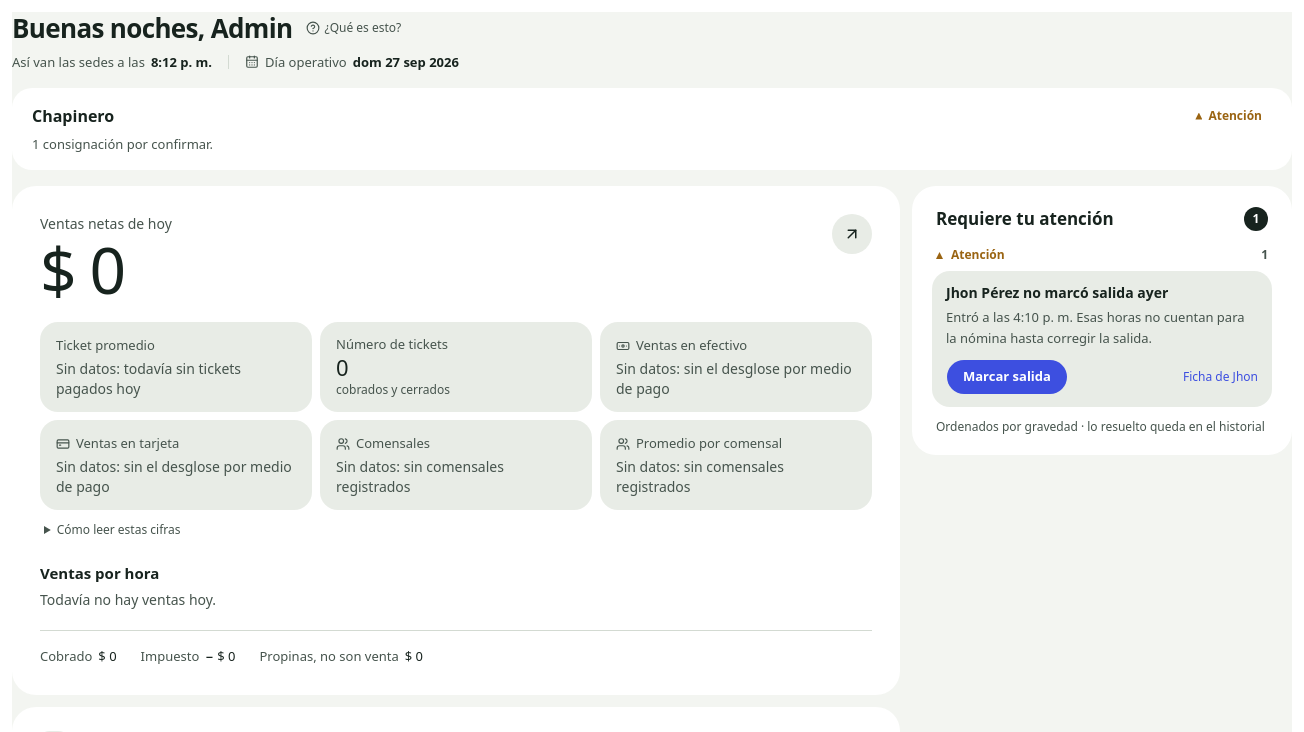
Test: Requiere tu atención — acciones en el lugar › una salida olvidada se marca con la hora y el motivo, y dice que no se reversa desde acá
The image size is (1304, 732).
Expected: the text "Entró a las 4:10 p. m." is shown, [946,308,1245,347]
Click the button "Marcar salida": (1007, 377) [946,359,1068,395]
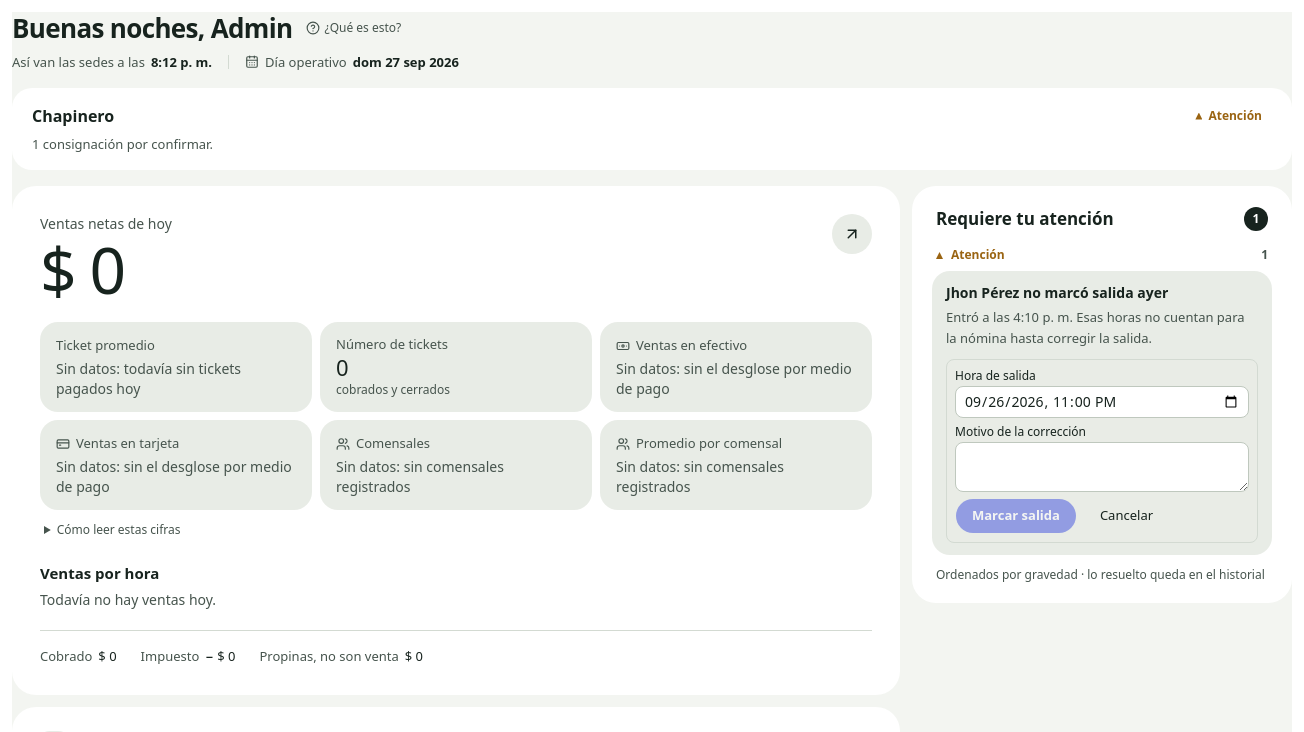
Result: the field labelled "Hora de salida" holds "2026-09-26T23:00" at [955,386,1249,418]
In the text box labelled "Motivo de la corrección": (1102, 467) [955,442,1249,492], type "Cerró la tablet a las 11"
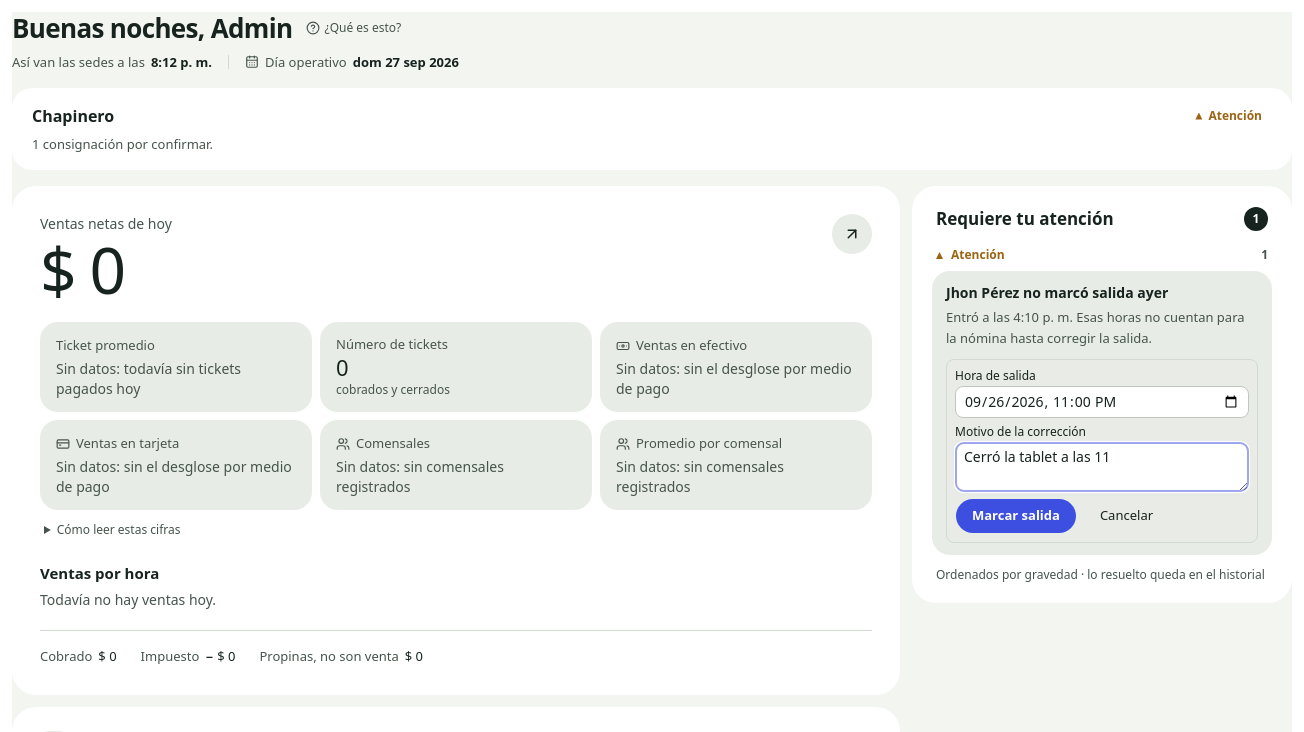
Click the button "Marcar salida": (1016, 516) [955,498,1077,534]
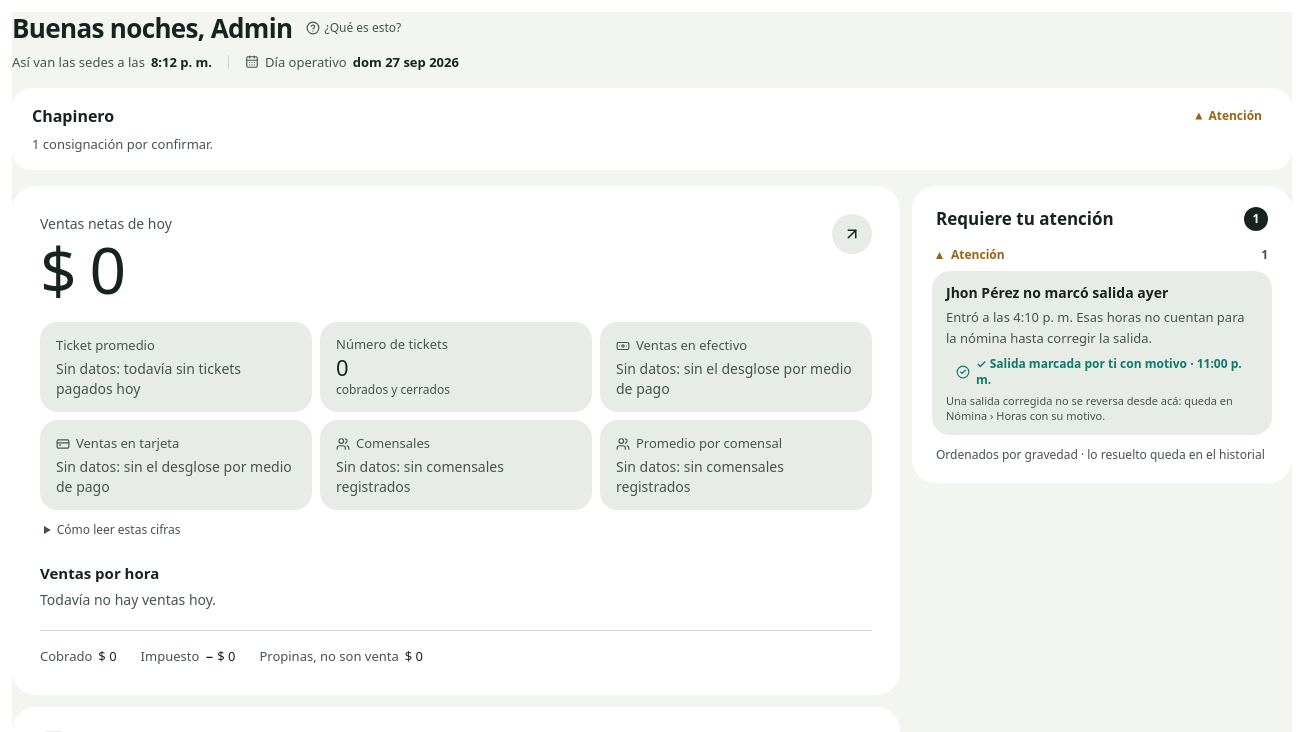
Result: the text "✓ Salida marcada por ti con motivo · 11:00 p. m." is shown at [946,359,1258,385]
Result: the text "no se reversa desde acá" is shown at [946,393,1233,423]
